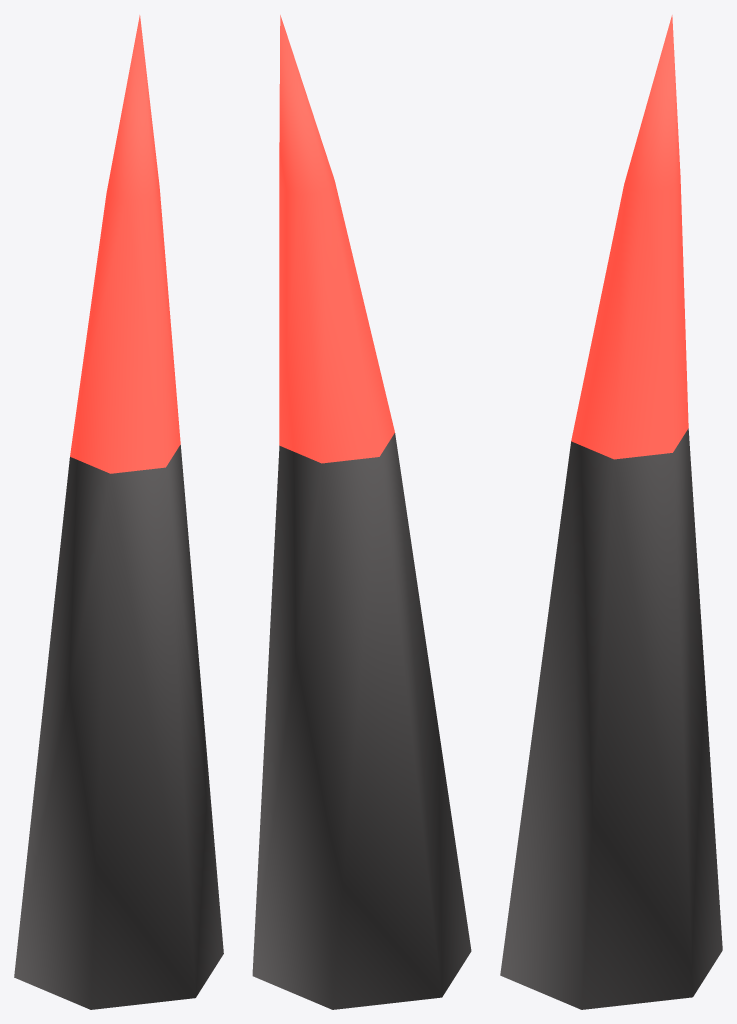
File: thorn_spike.glb
The picture shows the model from 3 angles, left to right: view 1: azimuth 30°, elevation 25°; view 2: azimuth 150°, elevation 25°; view 3: azimuth 270°, elevation 25°; orthographic projection. The views are drawn at different scales.
Visible parts, largest first — view 1: thorn_spike; view 2: thorn_spike; view 3: thorn_spike.
Boxes of the visible parts, bbox=[...] form: thorn_spike: bbox=[14, 15, 223, 1009]; thorn_spike: bbox=[252, 15, 471, 1009]; thorn_spike: bbox=[500, 15, 722, 1009].
Bounding box in the file's own units: 0.1449 × 0.7 × 0.1449.
